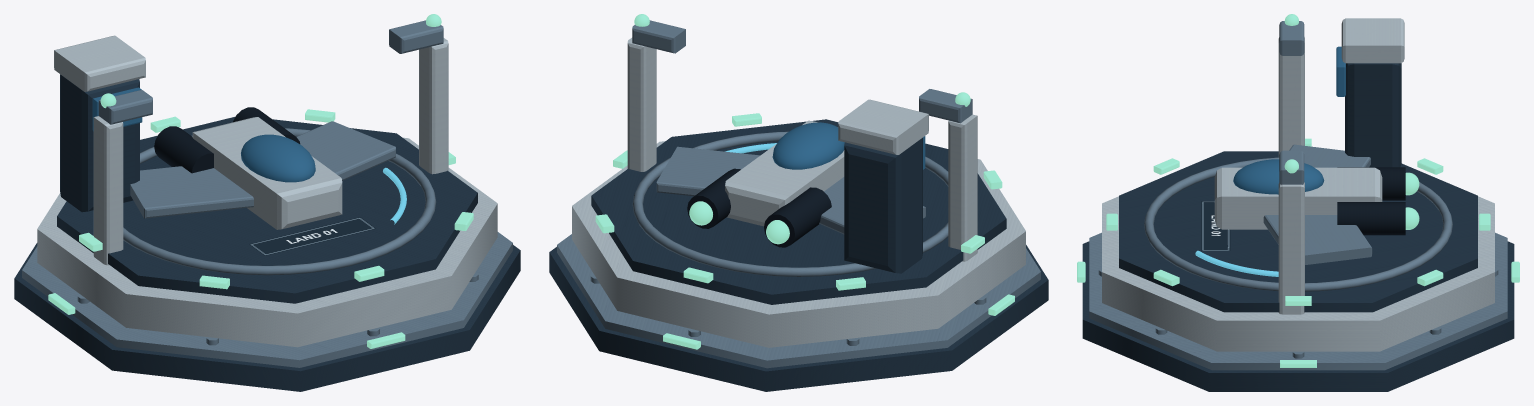
Rendered from starport.glb.
3 renders of one model, left to right at view 1: azimuth 30°, elevation 25°; view 2: azimuth 150°, elevation 25°; view 3: azimuth 270°, elevation 25°, orthographic. The views are drawn at different scales.
Parts seen in each view (by area): view 1: Graphite composite, Ceramic titanium armor, Brushed titanium (×2), Blue optical glass, Status light, Carbon machinery, Identification LAND 01; view 2: Graphite composite, Ceramic titanium armor, Brushed titanium (×2), Status light (×2), Carbon machinery, Blue optical glass; view 3: Graphite composite, Ceramic titanium armor, Brushed titanium (×2), Status light (×2), Carbon machinery, Blue optical glass (×2), Identification LAND 01, Coolant conduit.
Part boxes in pixels (<box>): Graphite composite: <box>14,74,520,391</box>; Ceramic titanium armor: <box>37,35,497,347</box>; Brushed titanium (×2): <box>22,20,512,367</box>; Blue optical glass: <box>241,134,315,182</box>; Status light: <box>48,109,473,348</box>; Carbon machinery: <box>154,107,300,173</box>; Identification LAND 01: <box>249,217,376,255</box>; Graphite composite: <box>549,119,1048,391</box>; Ceramic titanium armor: <box>572,37,1025,347</box>; Brushed titanium (×2): <box>557,20,1040,368</box>; Status light (×2): <box>595,14,1014,349</box>; Carbon machinery: <box>687,168,831,247</box>; Blue optical glass: <box>772,122,844,169</box>; Graphite composite: <box>1082,63,1514,391</box>; Ceramic titanium armor: <box>1102,18,1494,351</box>; Brushed titanium (×2): <box>1089,21,1507,370</box>; Status light (×2): <box>1077,14,1519,367</box>; Carbon machinery: <box>1337,167,1405,235</box>; Blue optical glass (×2): <box>1233,46,1345,194</box>; Identification LAND 01: <box>1201,201,1230,250</box>; Coolant conduit: <box>1195,250,1278,276</box>.
Size of the model in its own units: 3.38 by 1.79 by 3.38.
8 materials, 5 textured.
